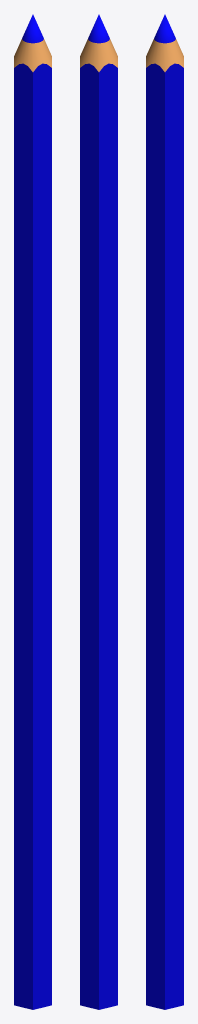
File: potlood-Dblauw.fbx
3 views of the same model, side by side, from view 1: azimuth 30°, elevation 25°; view 2: azimuth 210°, elevation 25°; view 3: azimuth 270°, elevation 25° (orthographic).
Parts seen in each view (by area): view 1: Model; view 2: Model; view 3: Model.
Part boxes in pixels (box(x1,y1,x2,y2)): Model: box(14, 14, 51, 1009); Model: box(80, 14, 117, 1009); Model: box(146, 14, 183, 1009).
Bounding box in the file's own units: 80 × 2000 × 69.28.
